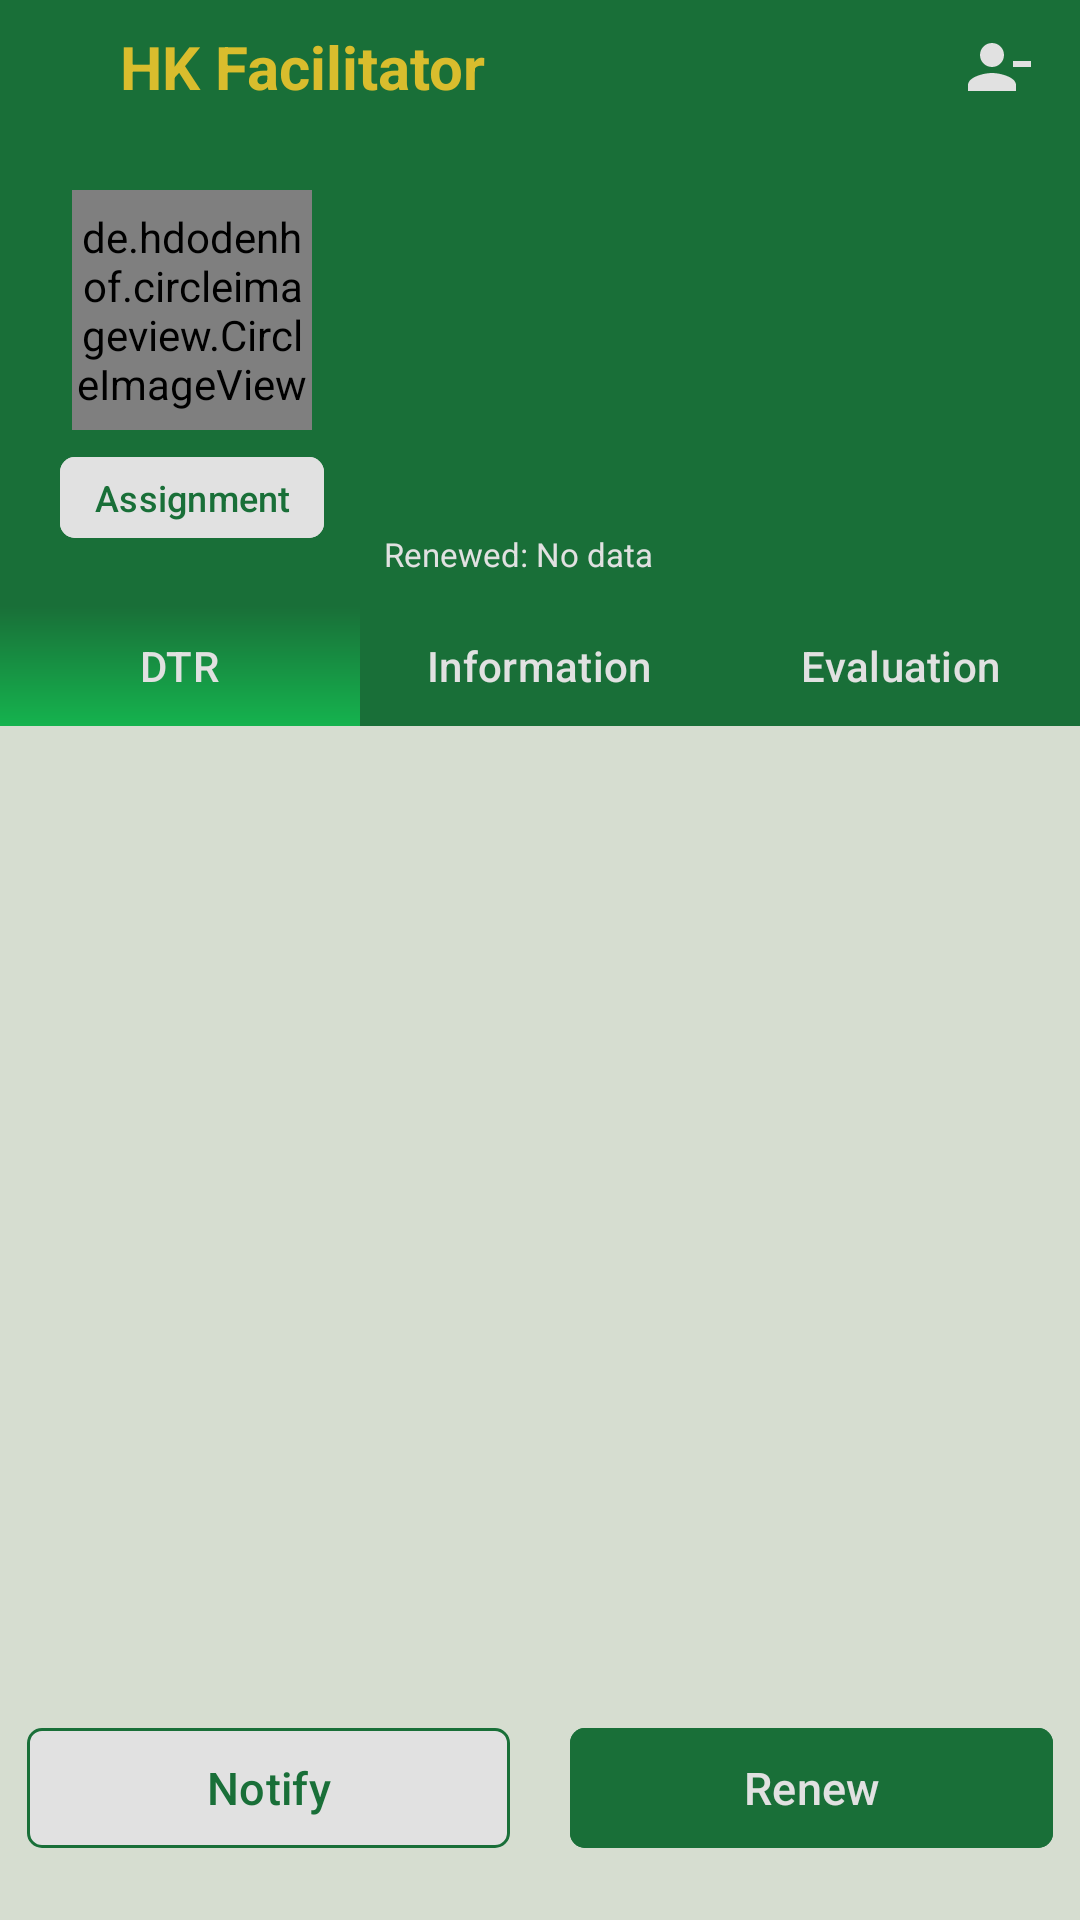

Where icons sit on this 1080x1920 app screen, as (x1, y1, x2, y2):
Remove: (968, 43, 1031, 91)
